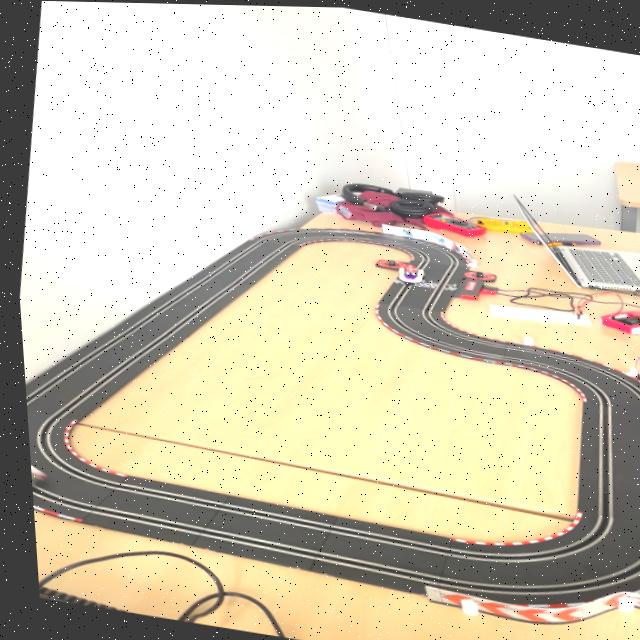mario: (387, 259, 429, 286)
yoshi: (23, 446, 53, 501)
